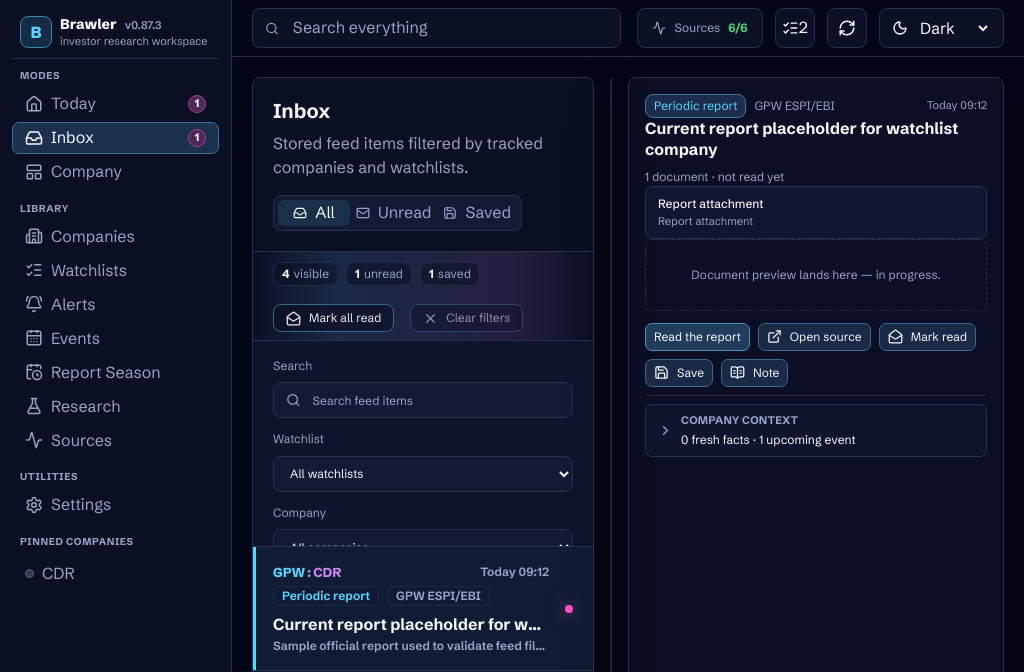
Test: Sidebar IA spine (ADR 0054) › opens the Today mode home
Click the button "Today 1".
click(116, 104)  # box [12,88,219,120]
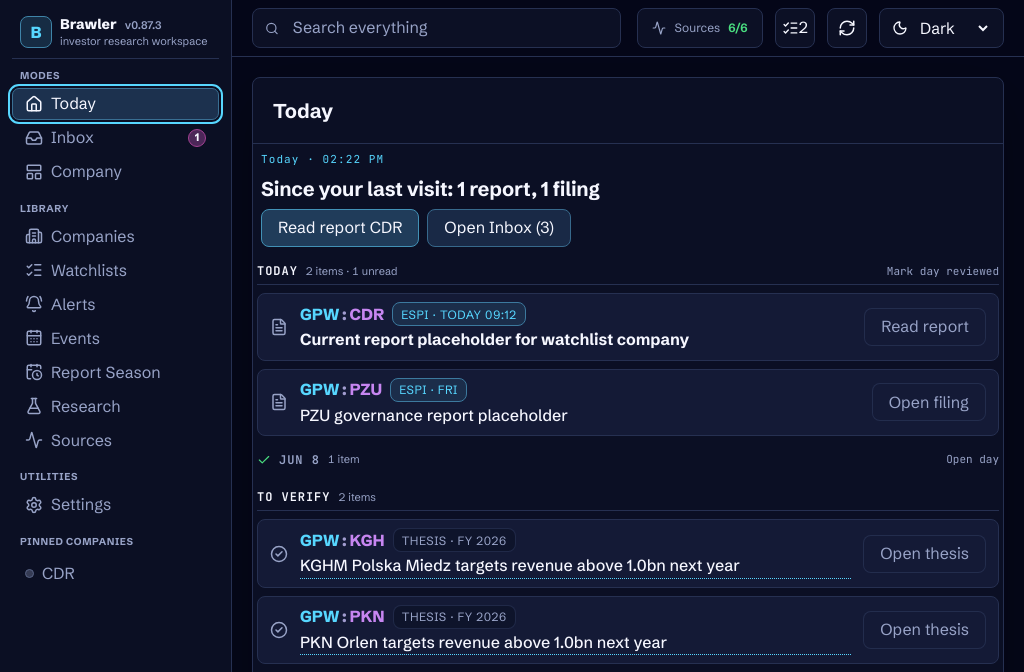
Check: the heading "Today" is shown, box [273,98,333,123]
